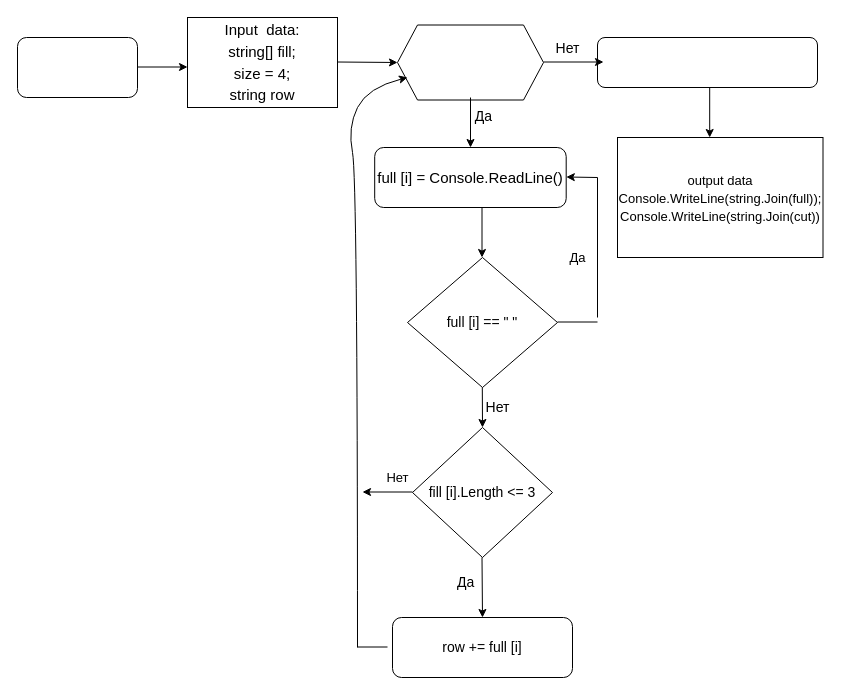
This 841x695 diagram has some shape labels left out. Each missing label, with the centre of its shape:
"i = 0; i < size, i++" belongs at point 470,62.
"string[] cut = row.Split(new char[])" belongs at point 707,62.
"Начало" belongs at point 77,67.
